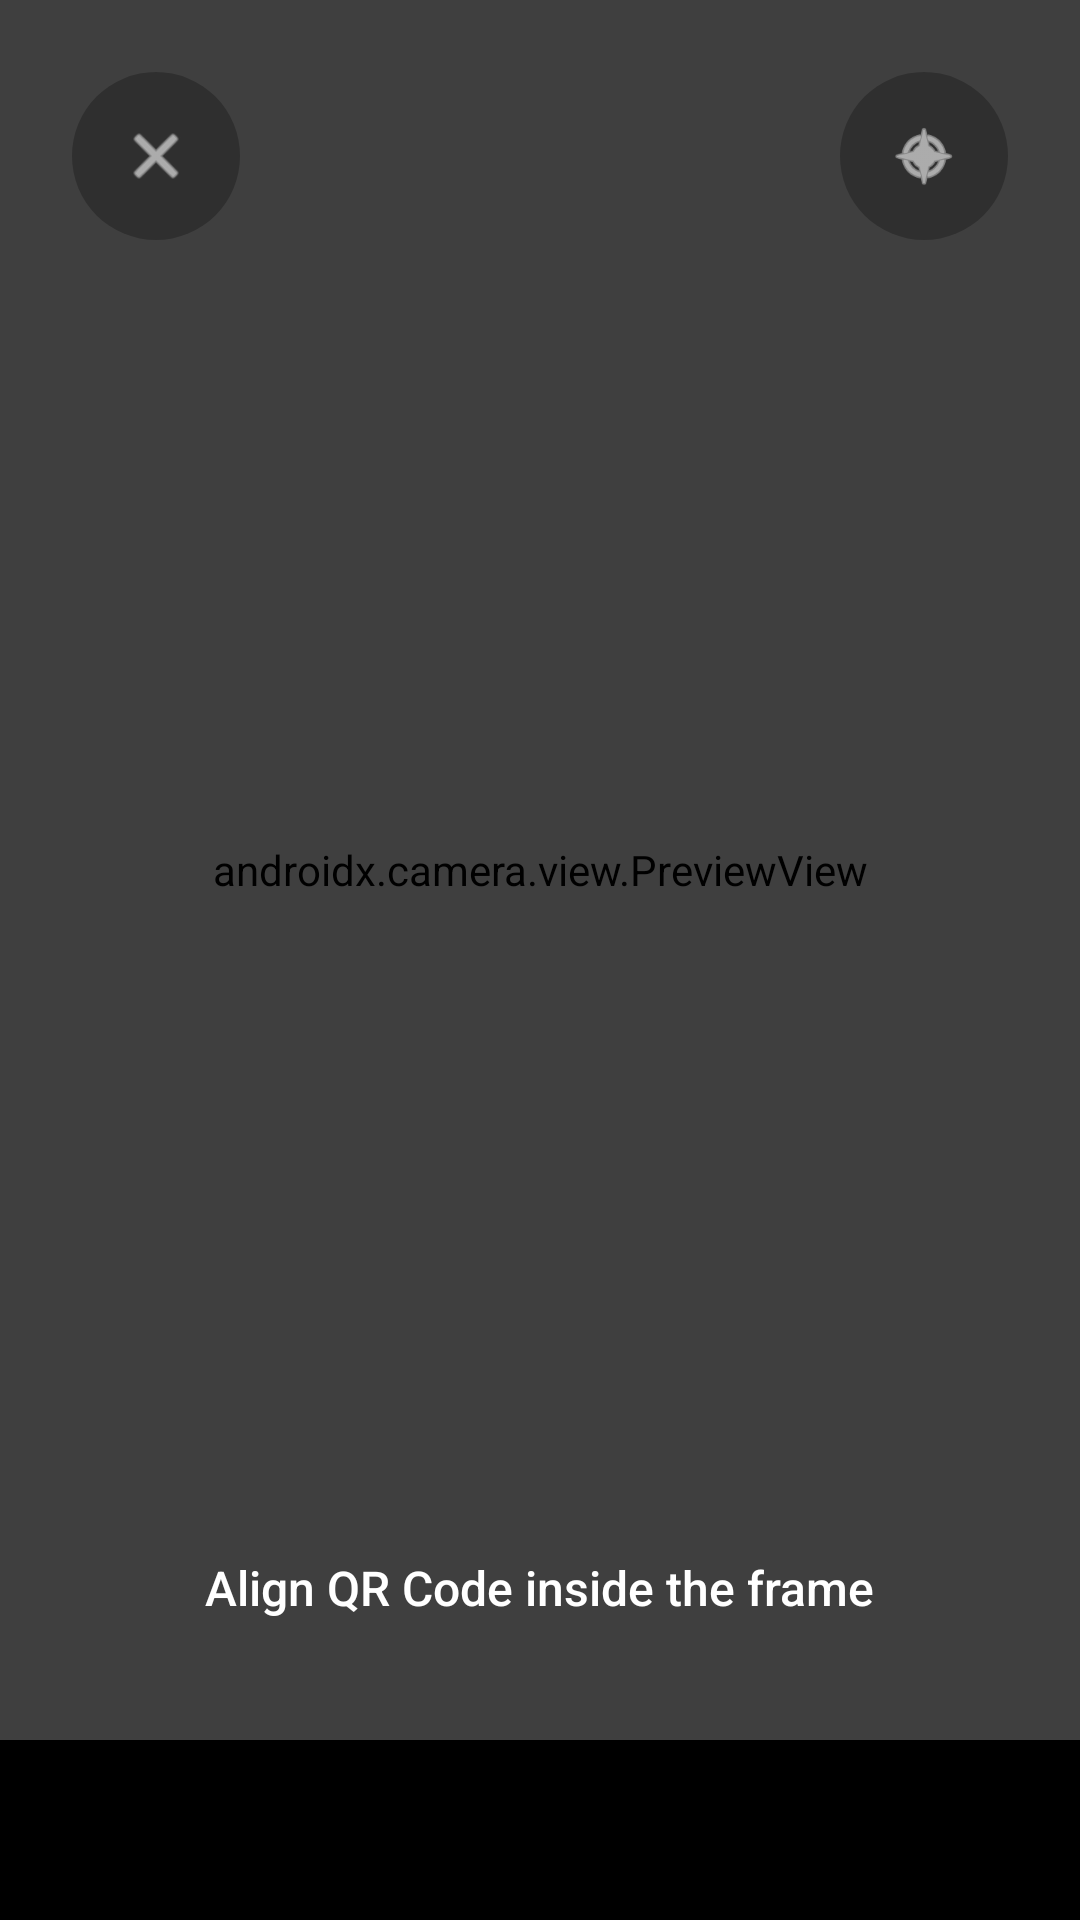

Point at icon controls on the screen. Image size 1080 × 1920, points as (x=x, y=y).
Close Scanner: (x=156, y=156)
